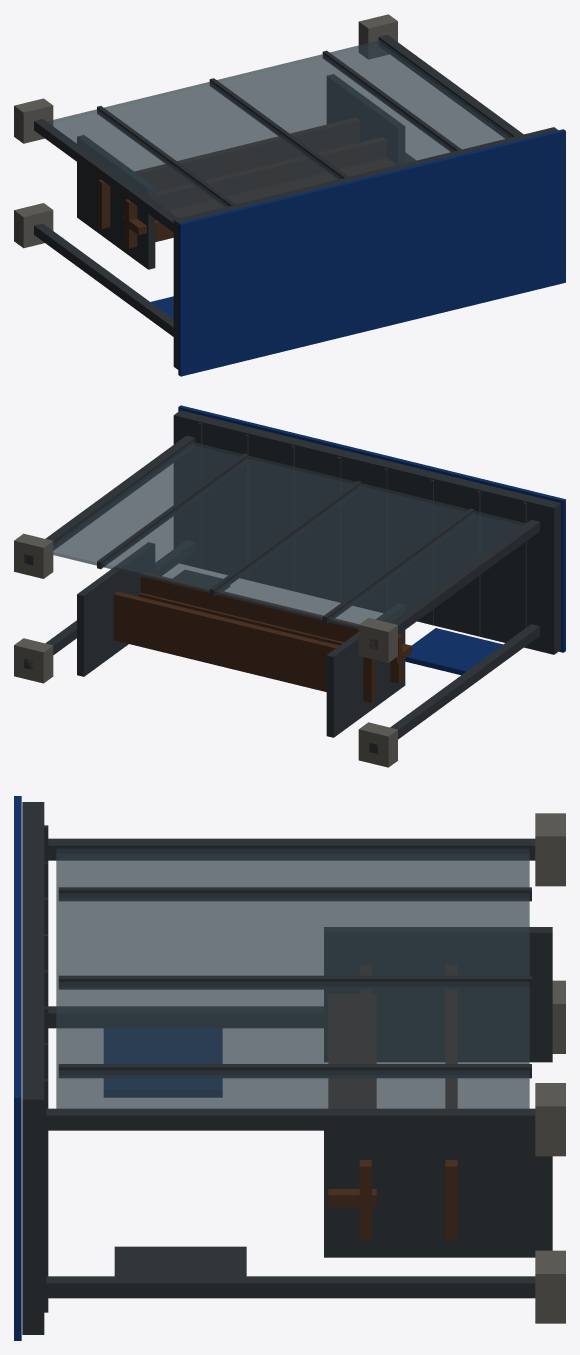
File: shelter_LOD0.obj
3 renders of one model, top to bottom at view 1: azimuth 30°, elevation 25°; view 2: azimuth 150°, elevation 25°; view 3: azimuth 270°, elevation 25°, orthographic. The views are drawn at different scales.
Visible parts, largest first — view 1: RZ_MODERN_BUS_SHELTER_LOD0; view 2: RZ_MODERN_BUS_SHELTER_LOD0; view 3: RZ_MODERN_BUS_SHELTER_LOD0.
Part boxes in pixels (bbox=[...]): RZ_MODERN_BUS_SHELTER_LOD0: bbox=[14, 14, 565, 376]; RZ_MODERN_BUS_SHELTER_LOD0: bbox=[14, 405, 565, 767]; RZ_MODERN_BUS_SHELTER_LOD0: bbox=[14, 796, 565, 1340].
Size of the model in its own units: 3.24 by 1.22 by 2.51.
